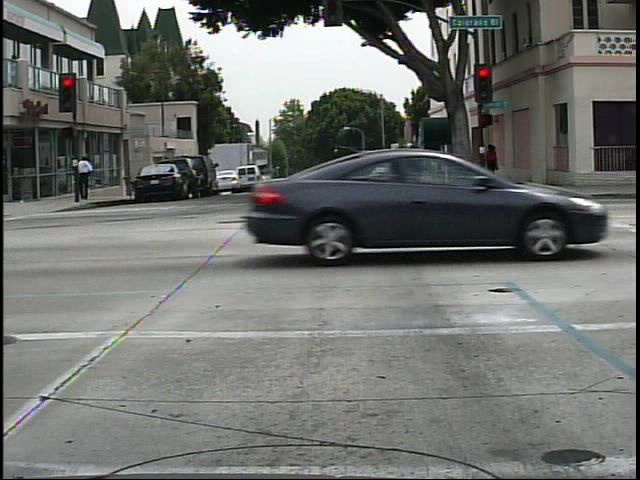person: (79, 149, 96, 201), (485, 139, 507, 177)
